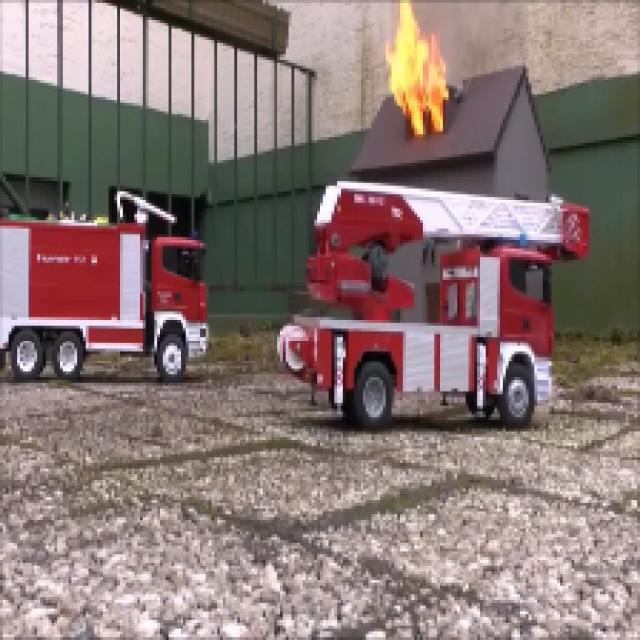Fire: (382, 21, 457, 144)
